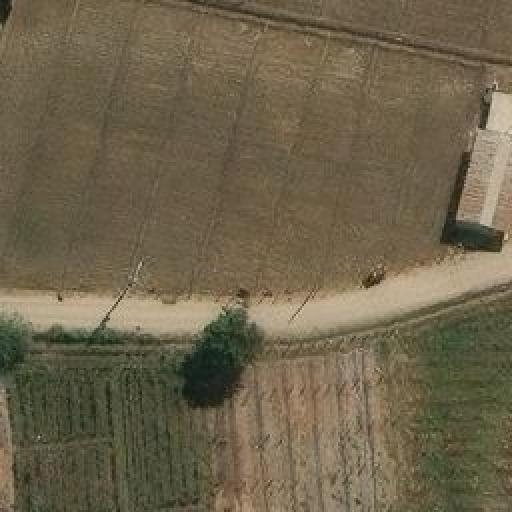manzanas: (445, 83, 510, 257)
